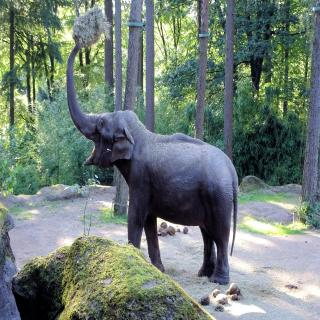Elephant: (59, 41, 241, 286)
